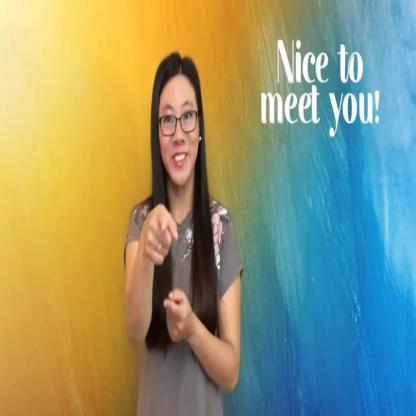NiceToMeetYou: (132, 170, 201, 376)
